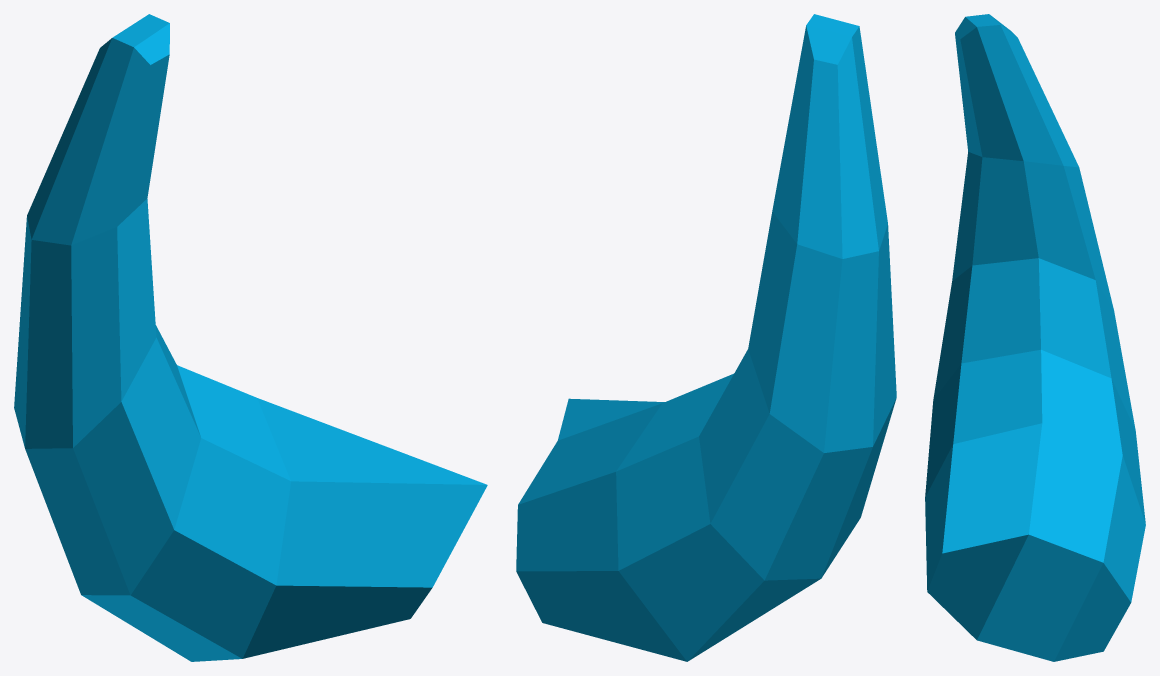
Rendered from Bull_Skull_Horn.fbx.
The picture shows the model from 3 angles, left to right: view 1: azimuth 30°, elevation 25°; view 2: azimuth 150°, elevation 25°; view 3: azimuth 270°, elevation 25°; orthographic projection. The views are drawn at different scales.
Visible parts, largest first — view 1: Bull_Skull_Horn; view 2: Bull_Skull_Horn; view 3: Bull_Skull_Horn.
Boxes of the visible parts, x1,y1,x2,y2 form: Bull_Skull_Horn: [14, 14, 487, 661]; Bull_Skull_Horn: [516, 14, 896, 661]; Bull_Skull_Horn: [925, 14, 1145, 661].
Bounding box in the file's own units: 17.51 × 28.58 × 10.49.
